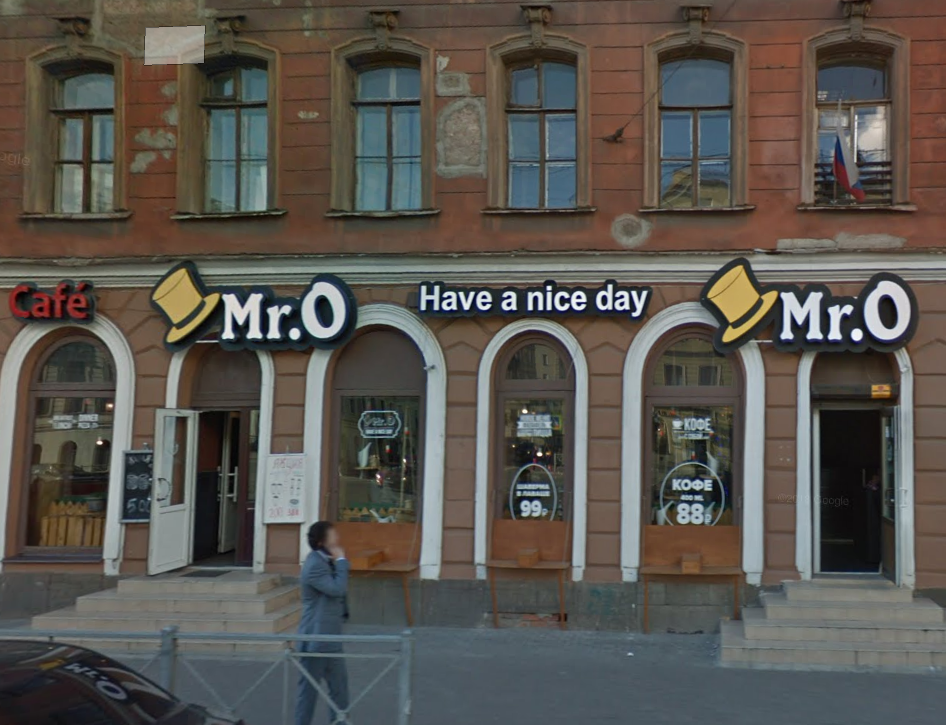door: (146, 400, 261, 583), (813, 399, 903, 578)
signboard: (694, 257, 924, 362), (147, 258, 358, 353), (405, 271, 659, 330), (5, 271, 98, 327)
window: (26, 332, 120, 559), (650, 324, 738, 524), (336, 326, 417, 520), (811, 42, 896, 206), (498, 331, 569, 521), (659, 49, 737, 212), (196, 56, 264, 214), (49, 57, 116, 213), (355, 56, 423, 209), (506, 57, 574, 210)
